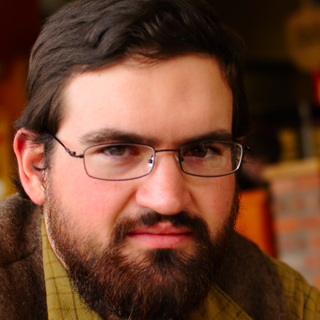eye: (94, 138, 144, 161), (180, 140, 224, 163)
